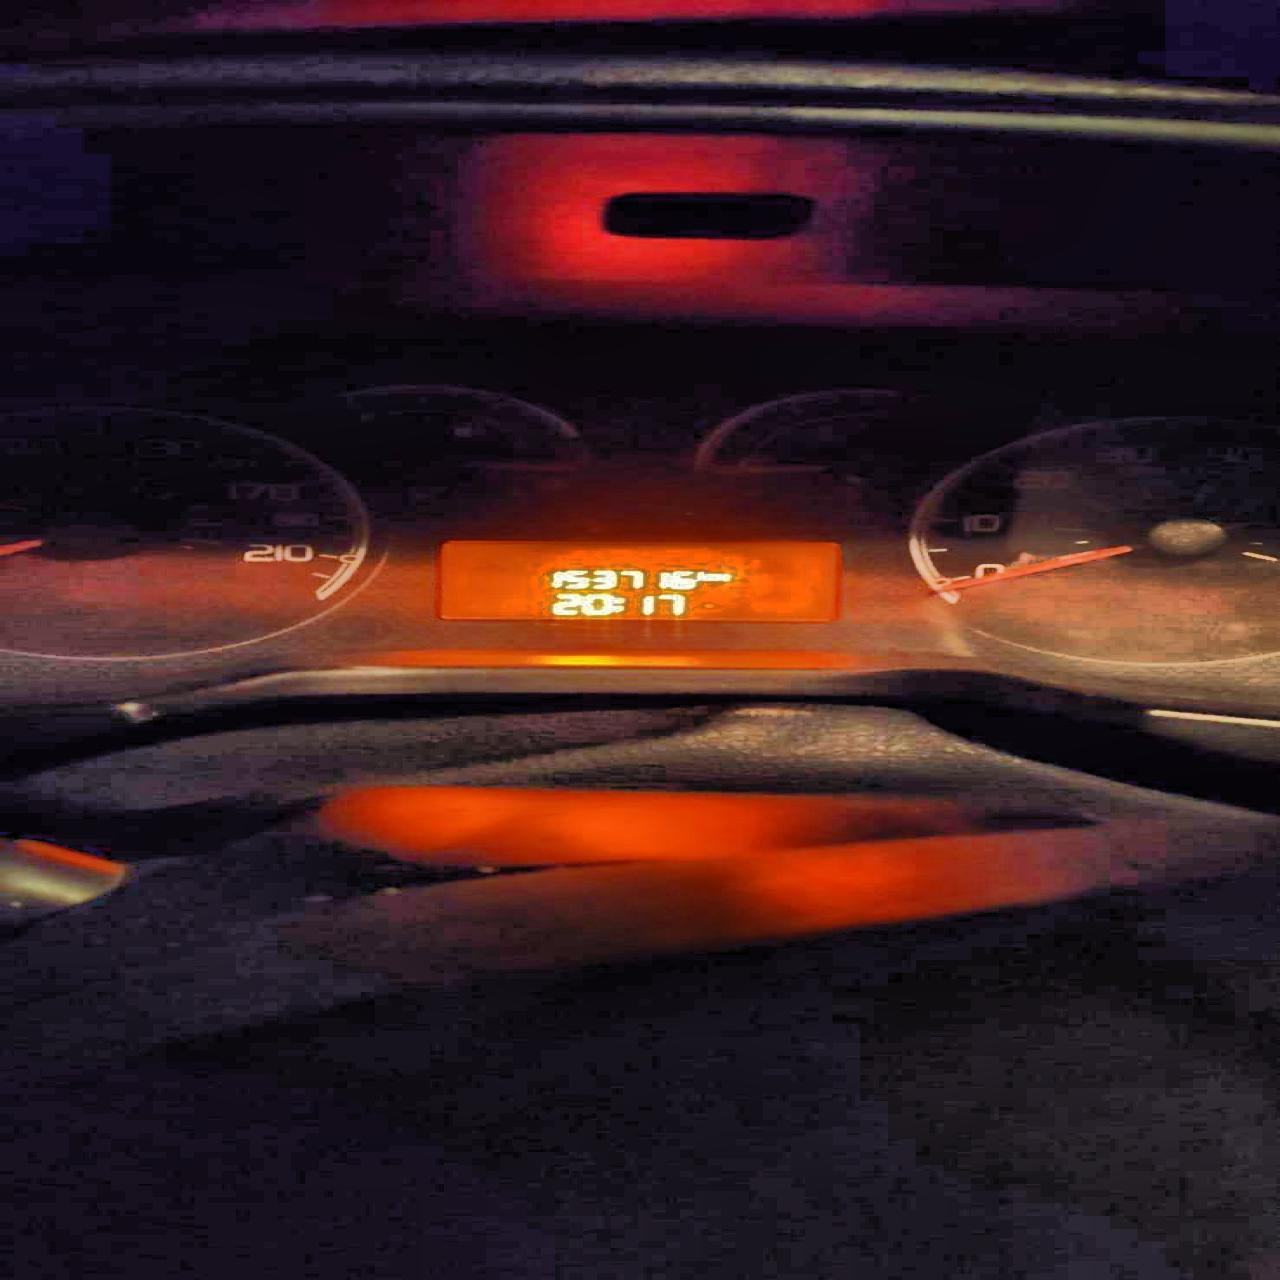0: (579, 593, 613, 615)
1: (640, 594, 655, 617), (546, 568, 561, 588), (658, 570, 669, 588)
2: (549, 593, 579, 617)
3: (591, 568, 615, 588)
5: (564, 568, 588, 588)
6: (669, 570, 695, 588)
7: (658, 592, 687, 615), (618, 568, 646, 590)
X: (612, 595, 628, 613), (713, 572, 734, 583), (696, 570, 712, 583)
odometer: (441, 539, 837, 620)
